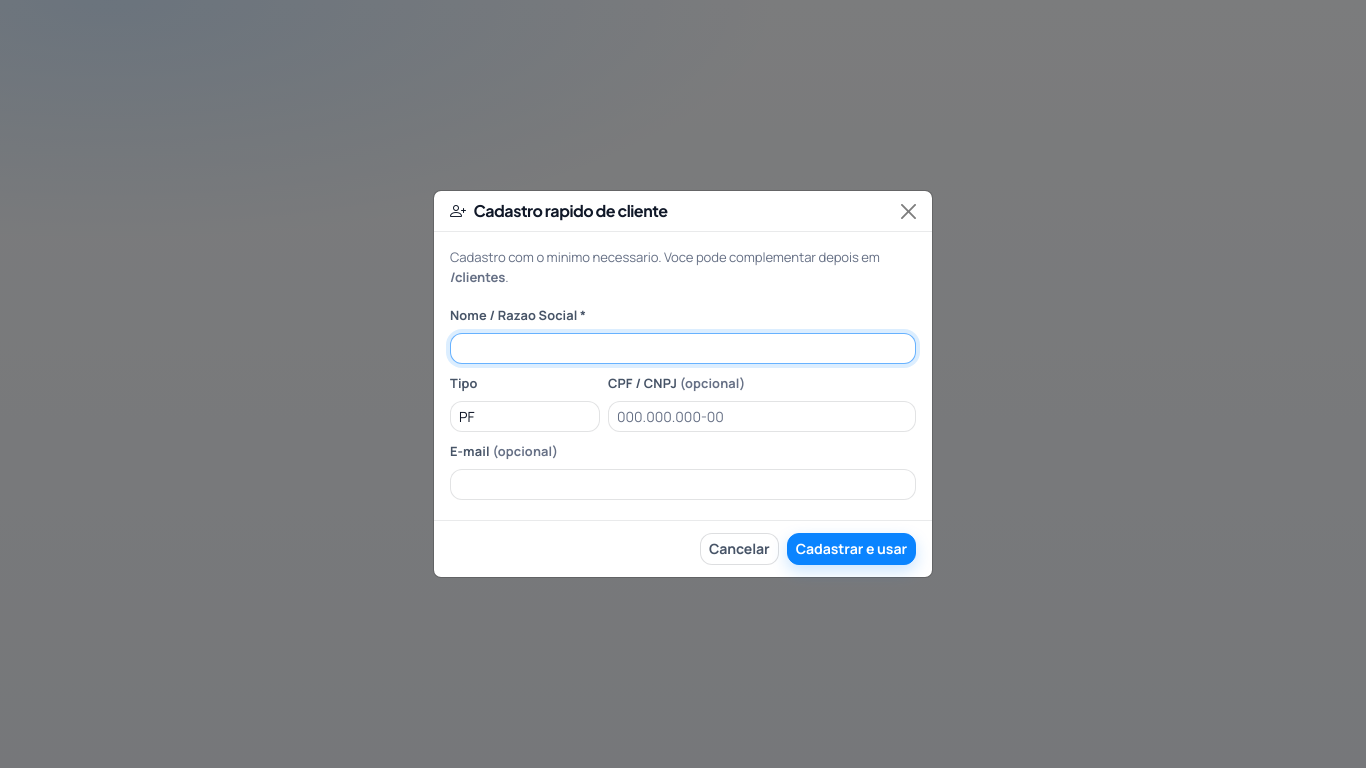
Test: CadastrarClienteRapidoModal › valida nome obrigatorio
Click the button "Cadastrar e usar".
click(851, 549)  # box left=787, top=533, right=916, bottom=564
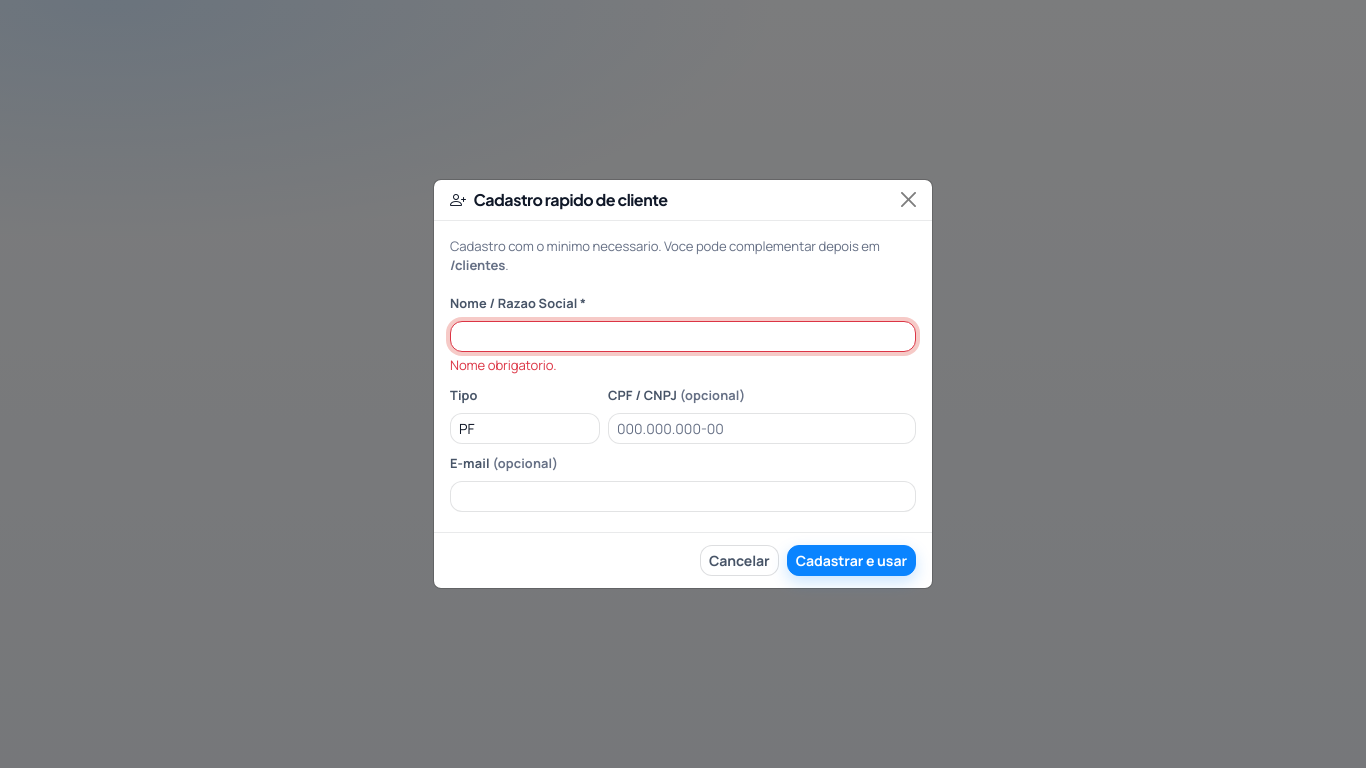
Expected: the text "Nome obrigatorio." is shown, left=450, top=356, right=556, bottom=374
